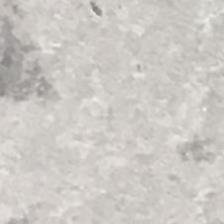Non_Crack: (27, 55, 212, 216)
